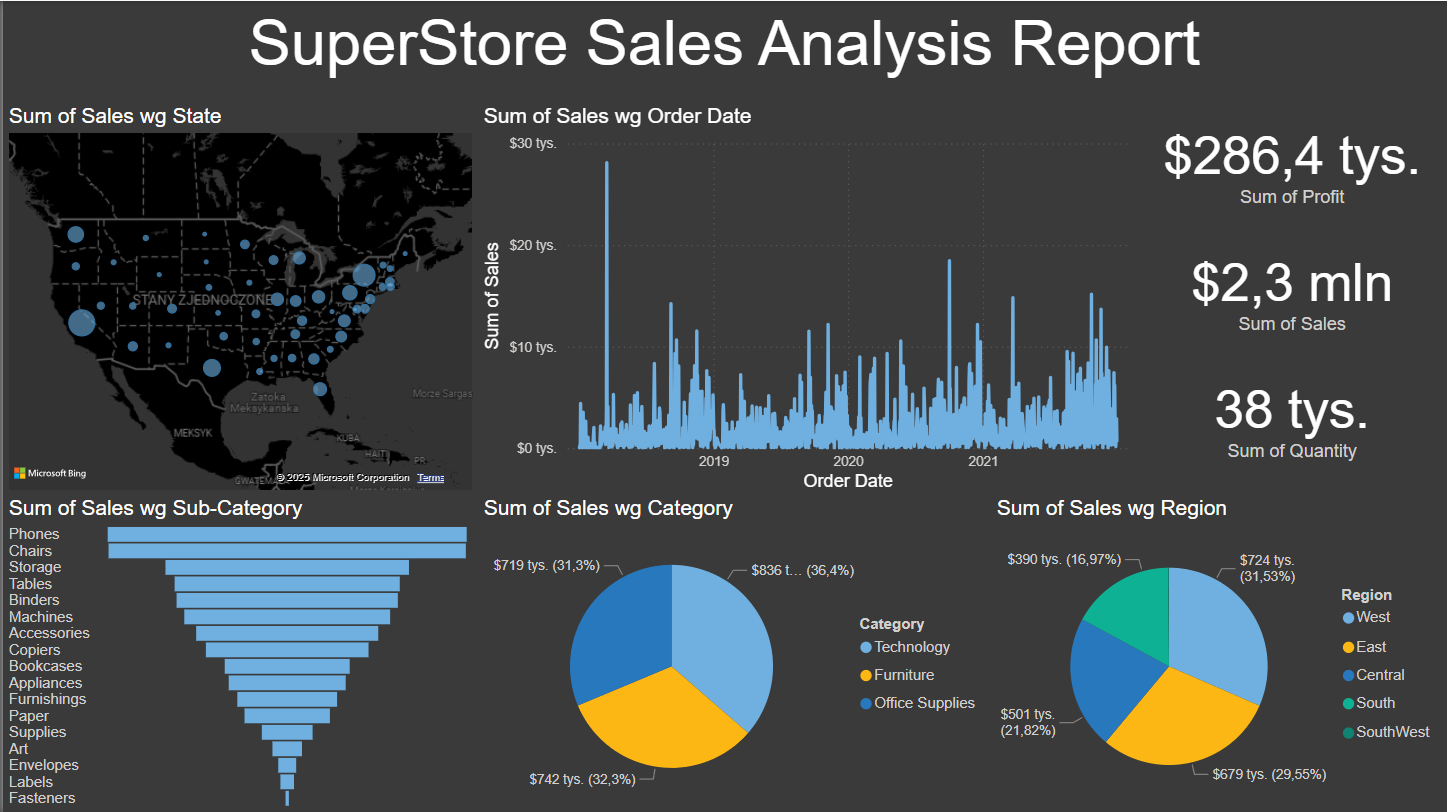

The page's visual inventory and layout, read from the dashboard file:
{"tool":"powerbi","page":{"name":"Sales Analysis","canvas":[1280,720],"ordinal":0},"visuals":[{"type":"card","fields":{"Values":["Sum(New Superstore Data xlsx - Orders.Sales)"]},"box":[1006.7,203.8,273.3,103.1],"z":1},{"type":"funnel","fields":{"Category":["New Superstore Data xlsx - Orders.Sub-Category"],"Y":["Sum(New Superstore Data xlsx - Orders.Sales)"]},"box":[0,438.7,421.2,281.1],"z":2},{"type":"map","fields":{"Category":["New Superstore Data xlsx - Orders.State"],"Size":["Sum(New Superstore Data xlsx - Orders.Sales)"]},"box":[0,91.4,421.2,347.2],"z":3},{"type":"card","title":"sdsf","fields":{"Values":["Sum(New Superstore Data xlsx - Orders.Quantity)"]},"box":[1006.7,316.1,273.3,103.1],"z":4},{"type":"card","fields":{"Values":["Sum(New Superstore Data xlsx - Orders.Profit)"]},"box":[1006.7,91.4,273.3,103.1],"z":5},{"type":"lineChart","fields":{"Category":["New Superstore Data xlsx - Orders.Order Date"],"Y":["Sum(New Superstore Data xlsx - Orders.Sales)"]},"box":[421.2,91.4,585.5,347.2],"z":6},{"type":"pieChart","fields":{"Category":["New Superstore Data xlsx - Orders.Category"],"Y":["Sum(New Superstore Data xlsx - Orders.Sales)"]},"box":[421.2,438.7,455.2,281.1],"z":7},{"type":"pieChart","fields":{"Category":["New Superstore Data xlsx - Orders.Region"],"Y":["Sum(New Superstore Data xlsx - Orders.Sales)"]},"box":[876.4,438.7,403.6,281.1],"z":8},{"type":"textbox","box":[0,0,1279.5,91.3],"z":9}]}

Visuals, with their boxes in screenshot pixels (x1, y1, x2, y2), scaled from the page's 1280x720 canvas onto the 1447x812 screenshot:
card - Sum(New Superstore Data xlsx - Orders.Sales): pyautogui.locateOnScreen(1138, 230, 1446, 346)
funnel - New Superstore Data xlsx - Orders.Sub-Category x Sum(New Superstore Data xlsx - Orders.Sales): pyautogui.locateOnScreen(0, 495, 476, 811)
map - New Superstore Data xlsx - Orders.State x Sum(New Superstore Data xlsx - Orders.Sales): pyautogui.locateOnScreen(0, 103, 476, 495)
"sdsf" card: pyautogui.locateOnScreen(1138, 356, 1446, 473)
card - Sum(New Superstore Data xlsx - Orders.Profit): pyautogui.locateOnScreen(1138, 103, 1446, 219)
lineChart - New Superstore Data xlsx - Orders.Order Date x Sum(New Superstore Data xlsx - Orders.Sales): pyautogui.locateOnScreen(476, 103, 1138, 495)
pieChart - New Superstore Data xlsx - Orders.Category x Sum(New Superstore Data xlsx - Orders.Sales): pyautogui.locateOnScreen(476, 495, 991, 811)
pieChart - New Superstore Data xlsx - Orders.Region x Sum(New Superstore Data xlsx - Orders.Sales): pyautogui.locateOnScreen(991, 495, 1446, 811)
textbox: pyautogui.locateOnScreen(0, 0, 1446, 103)
